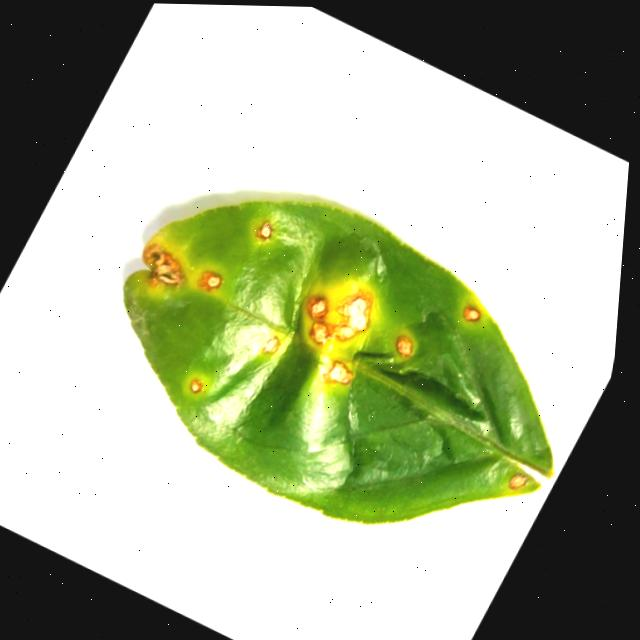antracnose: (122, 200, 552, 522), (122, 200, 551, 522), (307, 289, 371, 342), (142, 243, 181, 285), (323, 360, 351, 383), (197, 270, 220, 290), (260, 333, 279, 352), (395, 335, 410, 355), (255, 220, 271, 238), (462, 305, 479, 320), (508, 473, 525, 488), (189, 378, 201, 392)
